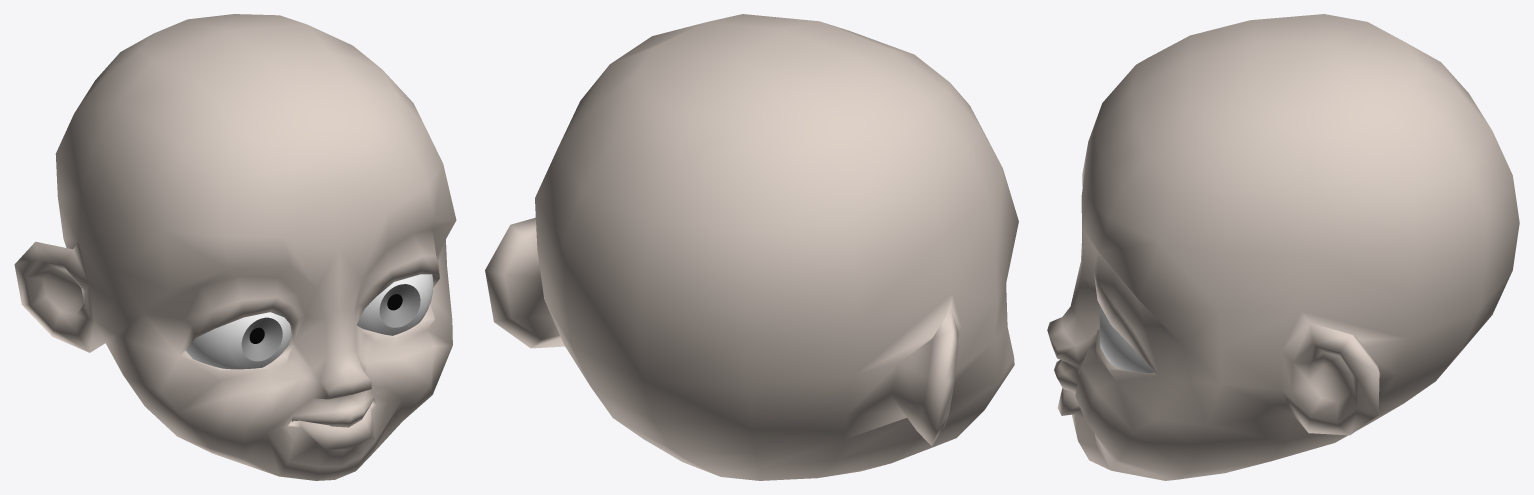
The model's file is bebe.fbx.
The picture shows the model from 3 angles, left to right: view 1: azimuth 30°, elevation 25°; view 2: azimuth 150°, elevation 25°; view 3: azimuth 270°, elevation 25°; orthographic projection. The views are drawn at different scales.
Parts seen in each view (by area): view 1: Head, Eye.R, Eye.L; view 2: Head; view 3: Head, Eye.L.
Part boxes in pixels (x1,y1,x2,y2): Head: [14, 14, 456, 480]; Eye.R: [185, 312, 291, 369]; Eye.L: [357, 274, 433, 335]; Head: [485, 14, 1018, 480]; Head: [1047, 14, 1519, 480]; Eye.L: [1099, 305, 1154, 373].
Bounding box in the file's own units: 700 × 671 × 678.
